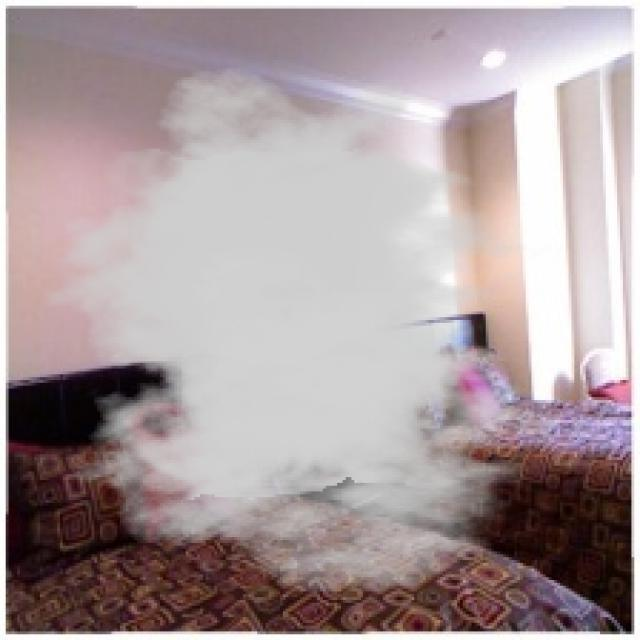Smoke: (34, 66, 583, 594)
